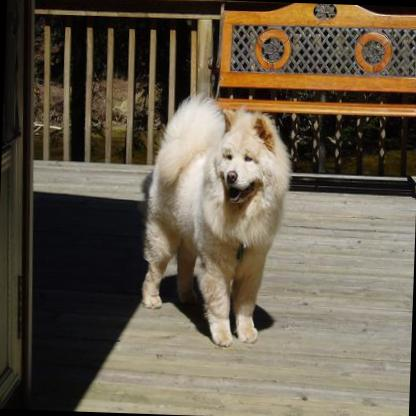chow: (138, 93, 294, 352)
